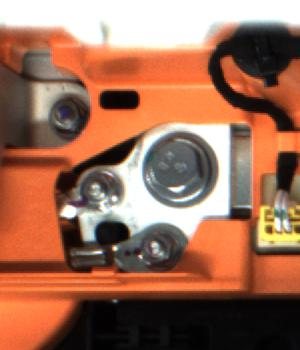nut_b: (140, 129, 229, 214)
